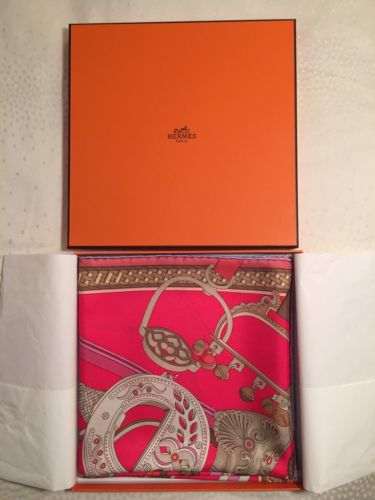HERMES: (164, 123, 199, 145)
